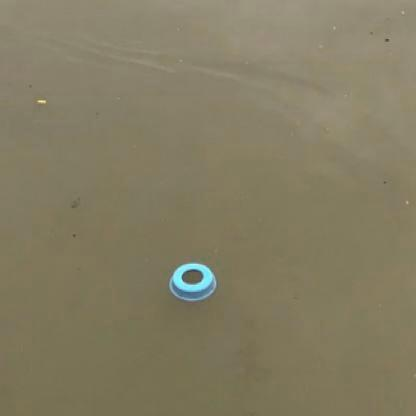Trash: (170, 260, 219, 304)
